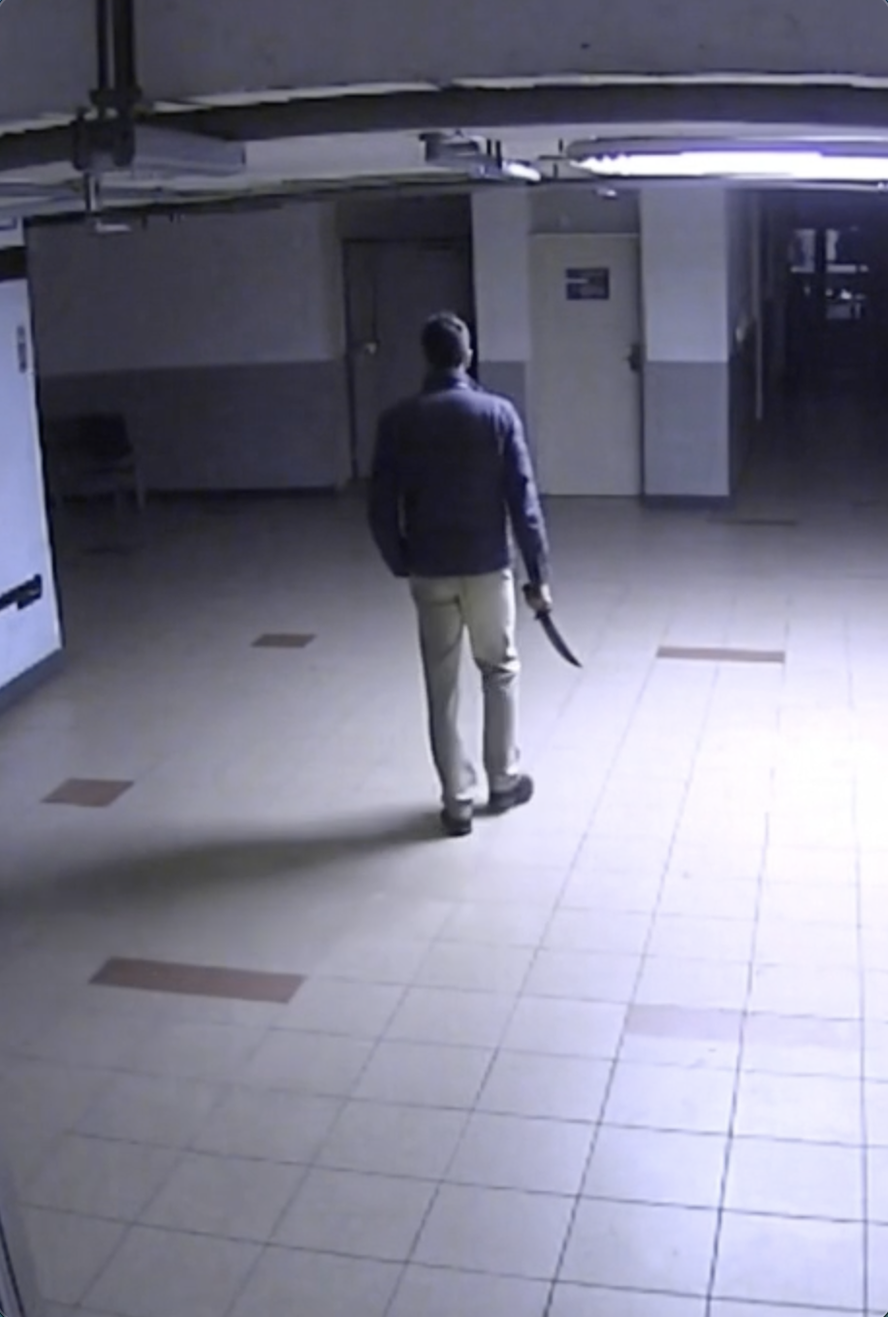Heavy Gun: (360, 312, 578, 841)
Knife: (516, 571, 587, 674)
